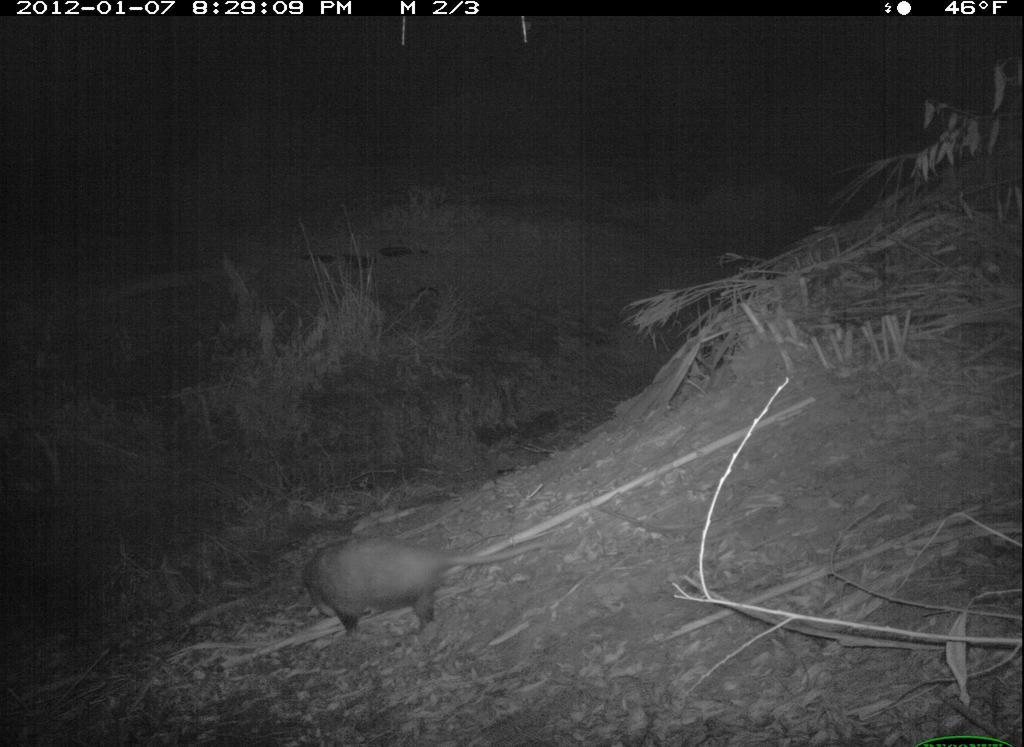opossum: (297, 532, 555, 641)
